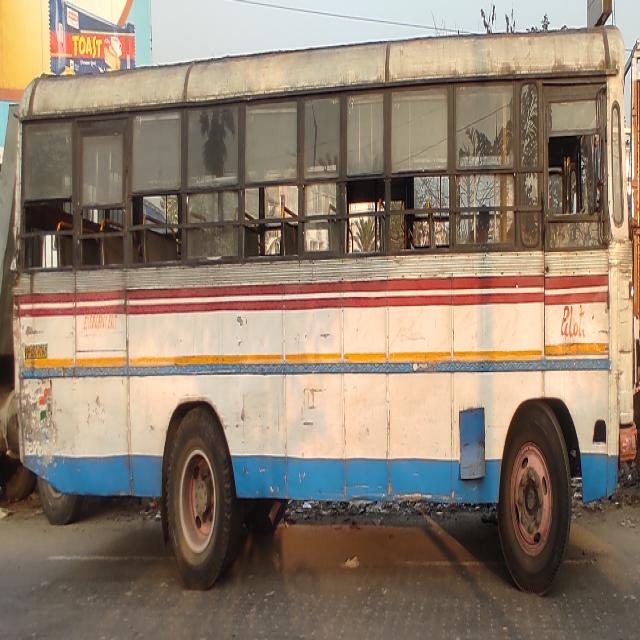bus: (11, 13, 636, 602)
